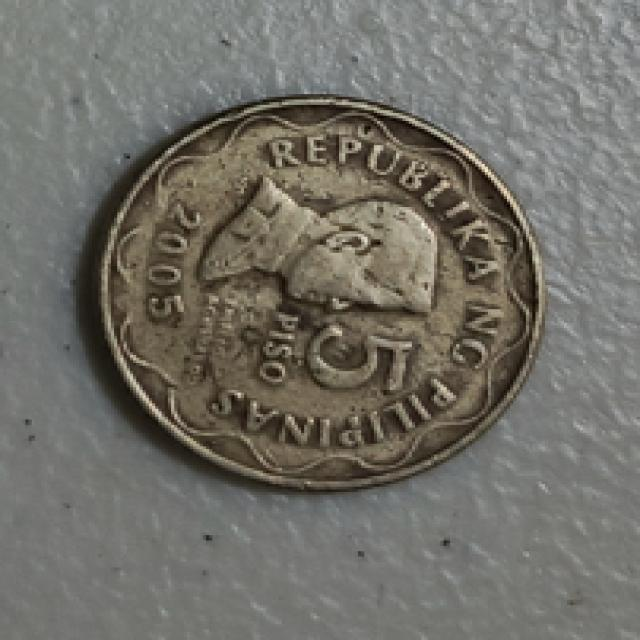5_peso: (101, 97, 542, 487)
